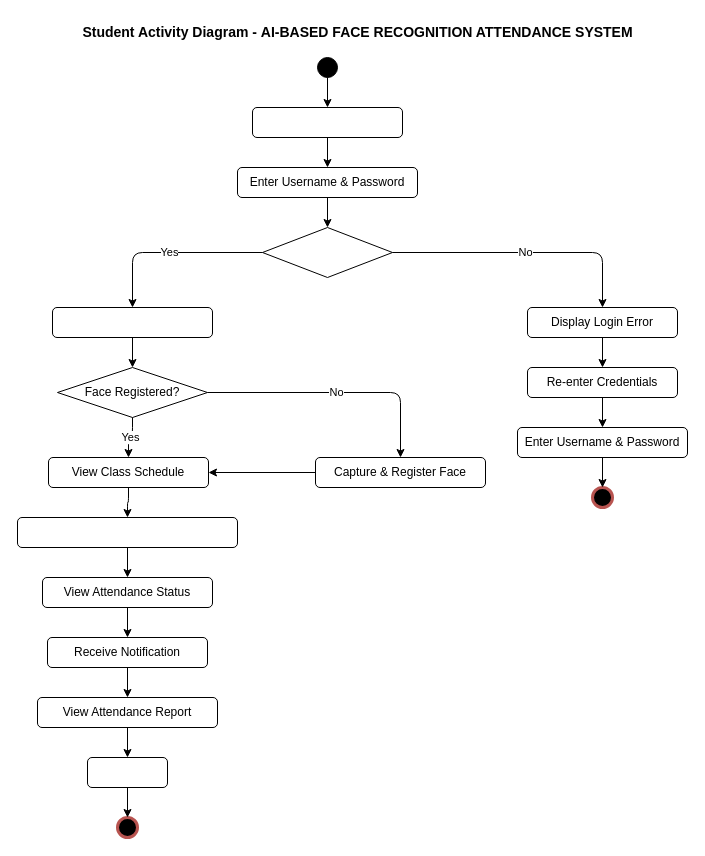
Image size: 705x856. Some labels were removed from this diagram. The centre of each missing label's shape, as x and y in pixels:
"Attend Class (Face Scanned by Camera)" goes at [127,532].
"Credentials Valid?" goes at [327,252].
"Logout" goes at [127,772].
"Open Student Portal" goes at [327,122].
"Student Dashboard" goes at [132,322].
